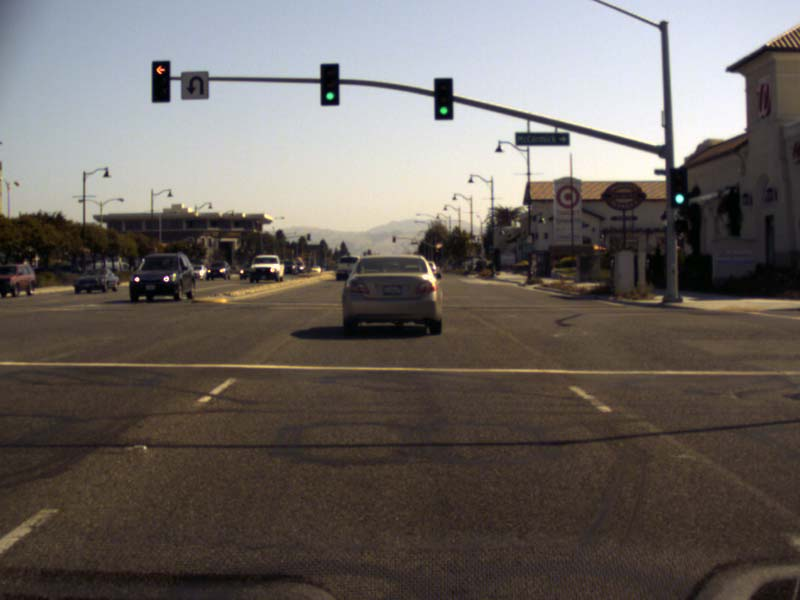Green: (322, 64, 337, 103), (436, 79, 451, 118), (671, 170, 685, 206)
Red: (153, 62, 168, 101), (392, 235, 395, 241)
